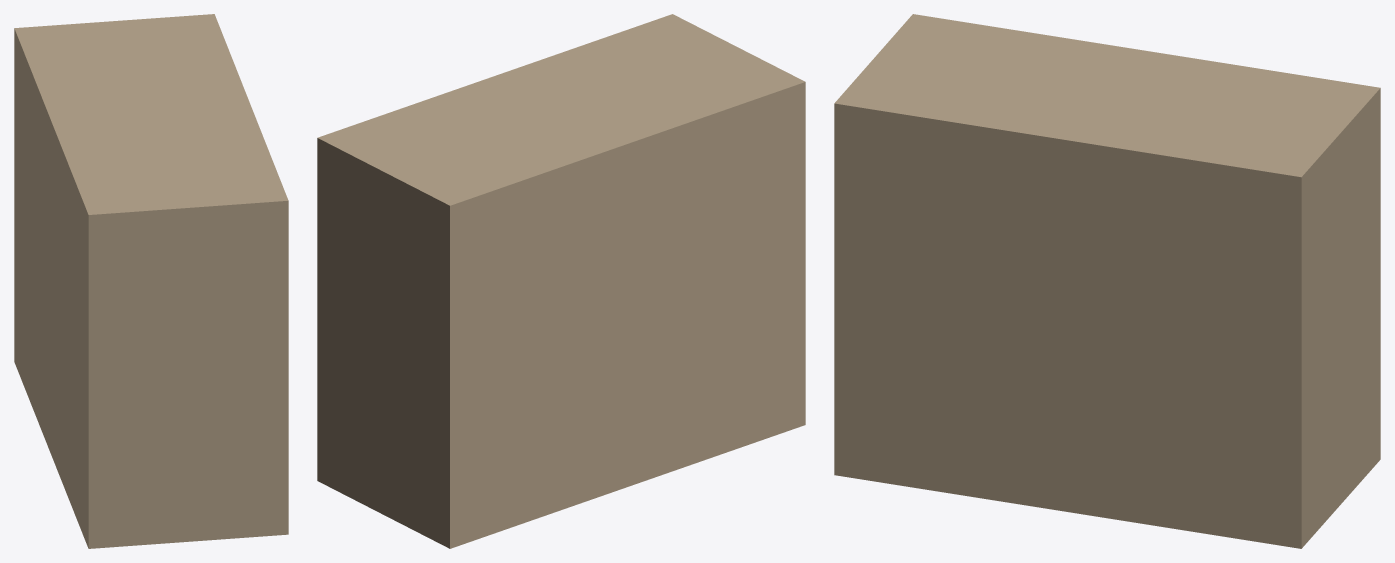
File: bld_99531866.dae
The picture shows the model from 3 angles, left to right: view 1: azimuth 30°, elevation 25°; view 2: azimuth 150°, elevation 25°; view 3: azimuth 270°, elevation 25°; orthographic projection. The views are drawn at different scales.
Visible parts, largest first — view 1: bld_99531866; view 2: bld_99531866; view 3: bld_99531866.
Part boxes in pixels (box(x1,y1,x2,y2)): bld_99531866: box(14, 14, 288, 548); bld_99531866: box(317, 14, 805, 548); bld_99531866: box(834, 14, 1380, 548).
Size of the model in its own units: 7.54 by 10.66 by 8.
